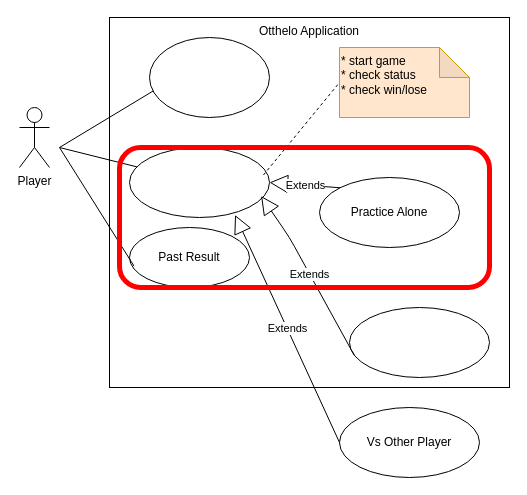
Some shapes in this 527 by 495 pixel diagram are drawn without their labels. Here are the shapes that lost their labels. From the top down, the centre of each, then its label:
At point (209, 77): "Signup/Login".
At point (199, 182): "Compete".
At point (419, 342): "Vs Computer".
